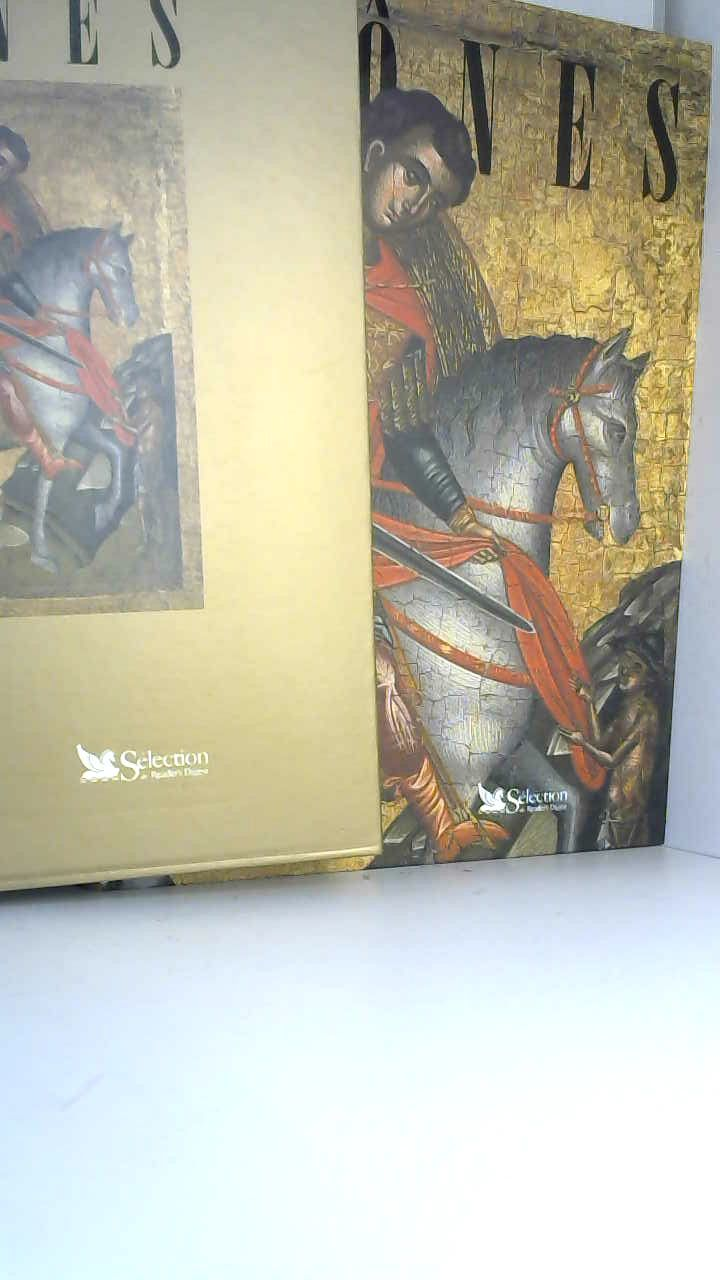book: (0, 0, 714, 914)
